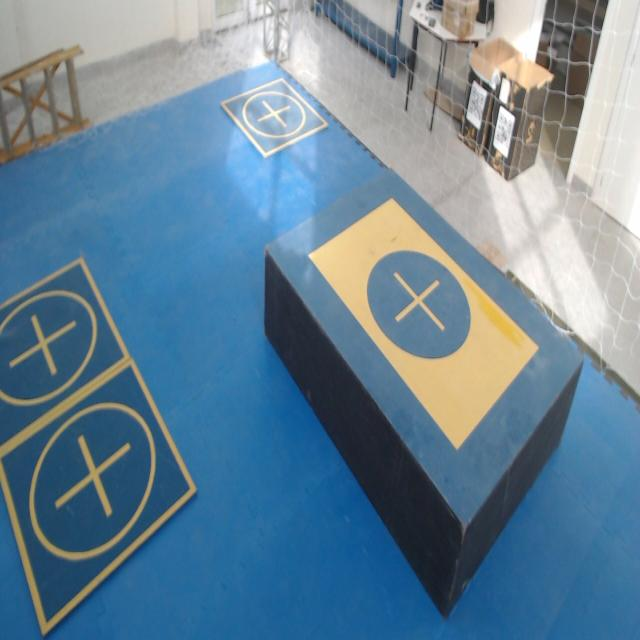base_inicio: (308, 199, 540, 450)
base_pouso: (0, 358, 197, 638), (0, 257, 131, 463), (220, 74, 329, 161)
